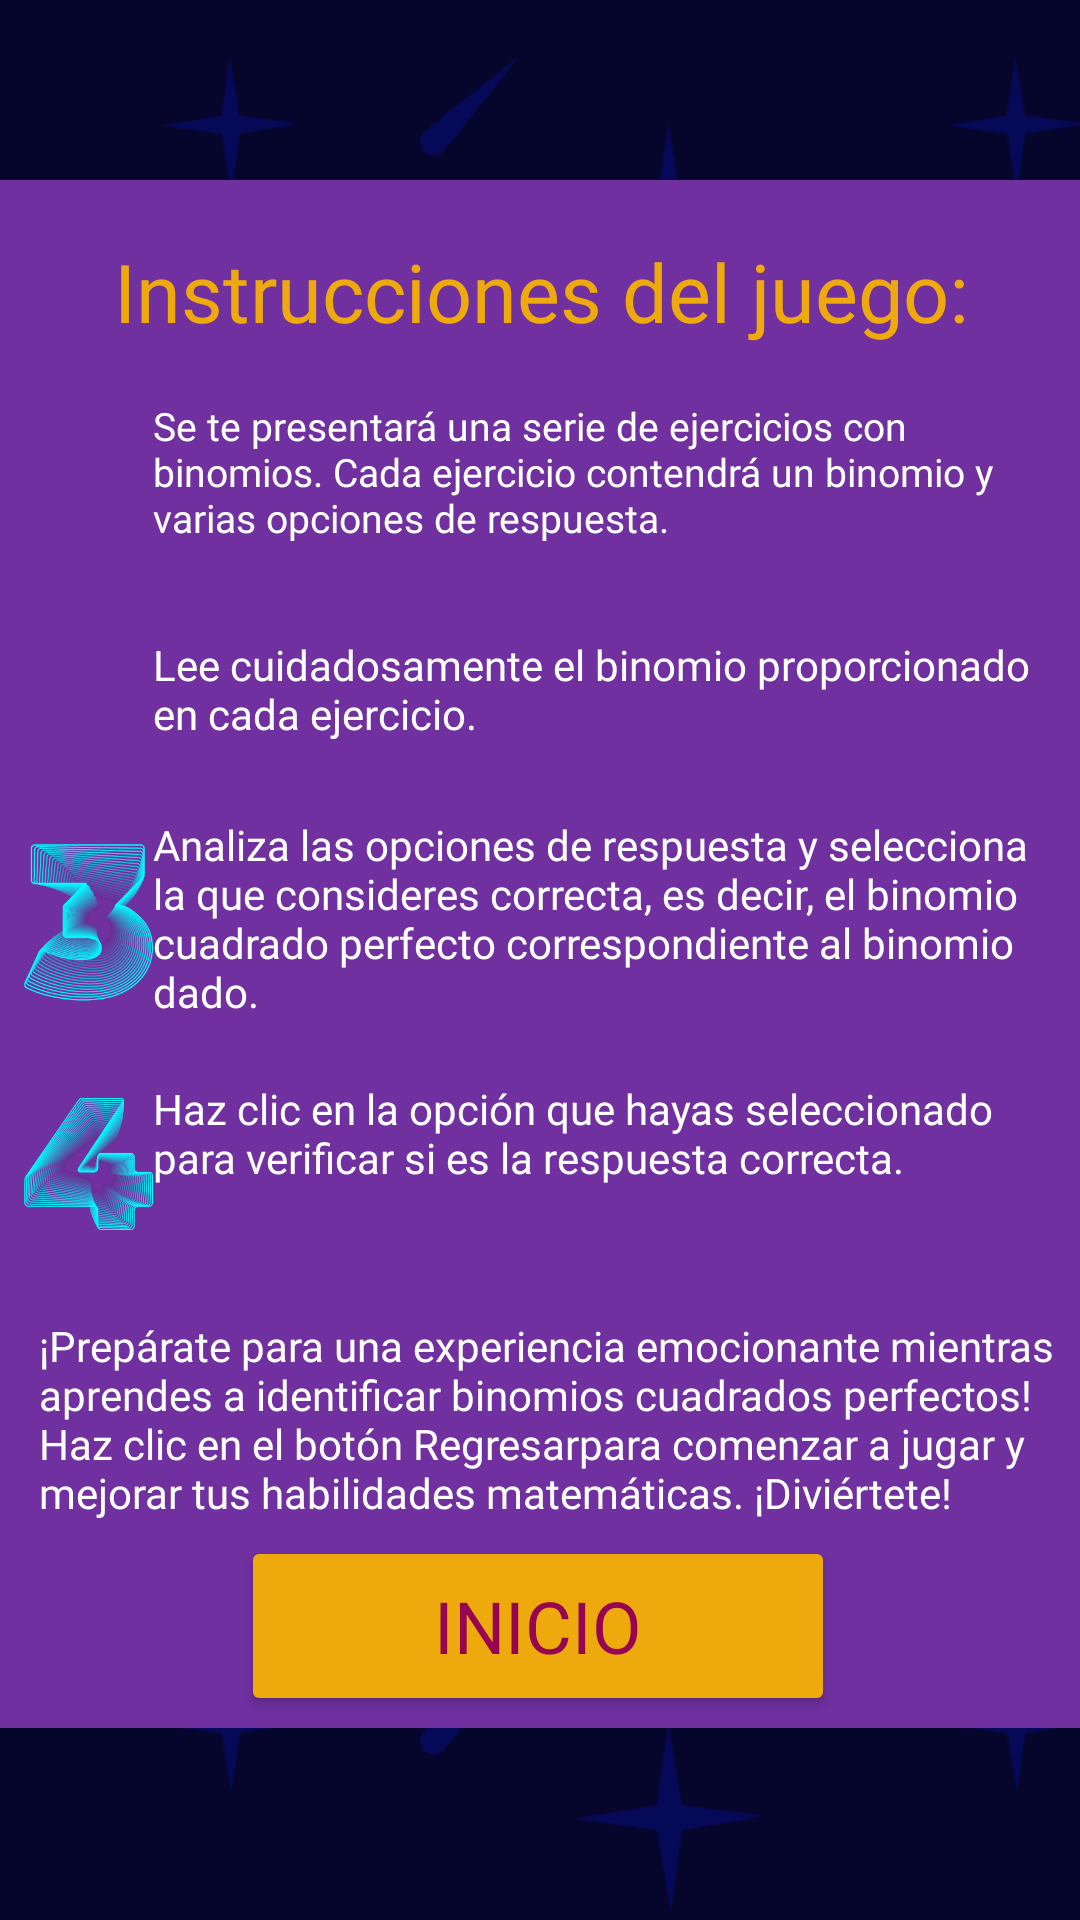

Icons on this 1080w x 1920h Android screen, each with its box as bbox=[x1, y1, x2, y2]:
num: bbox=[24, 844, 153, 1001], bbox=[24, 1098, 153, 1230]
